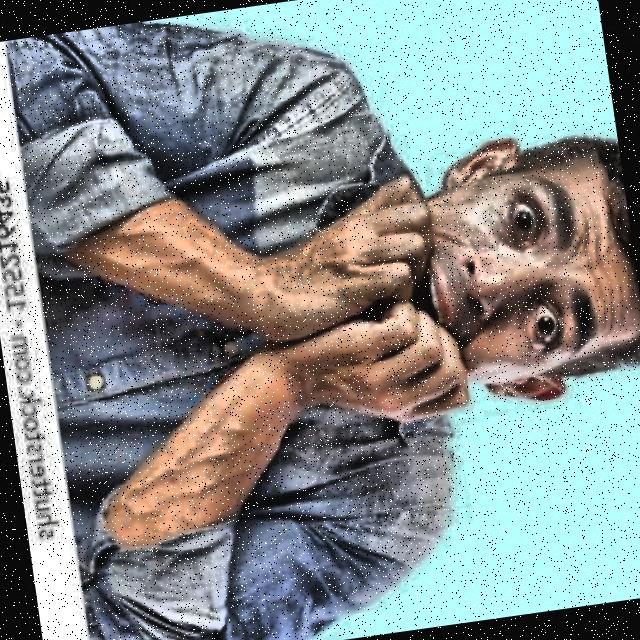fear: (319, 106, 640, 456)
